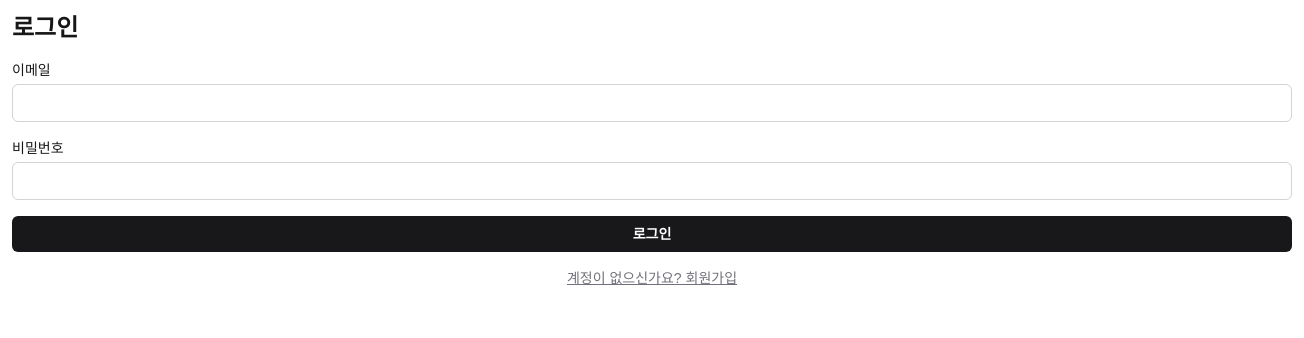
Test case: AuthForm (#35) › 회원가입 모드에서 비번 8자 미만이면 제출하지 않고 클라 가드 메시지를 보인다
The image size is (1304, 338).
Click the button "계정이 없으신가요? 회원가입". click: point(652, 278)
box: [12,268,1292,288]
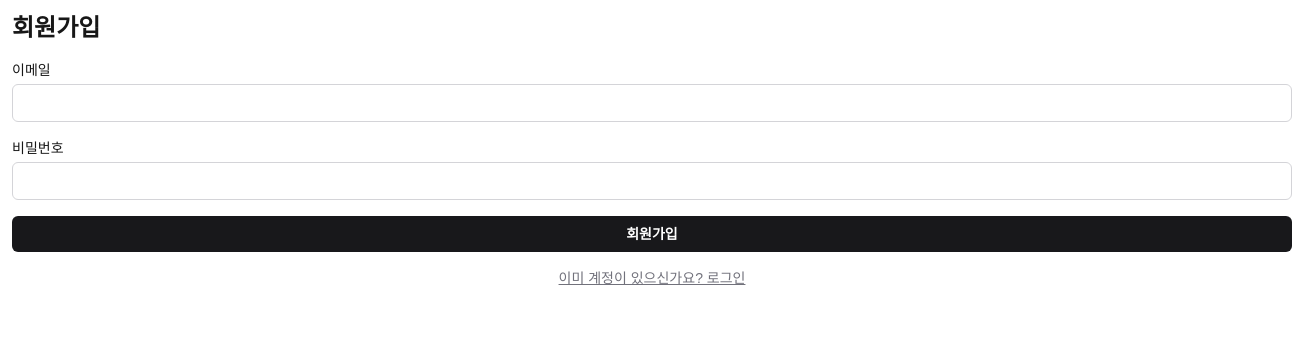
Type "a@b.com" into the field labelled "이메일". click: point(652, 103)
box: [12,84,1292,122]
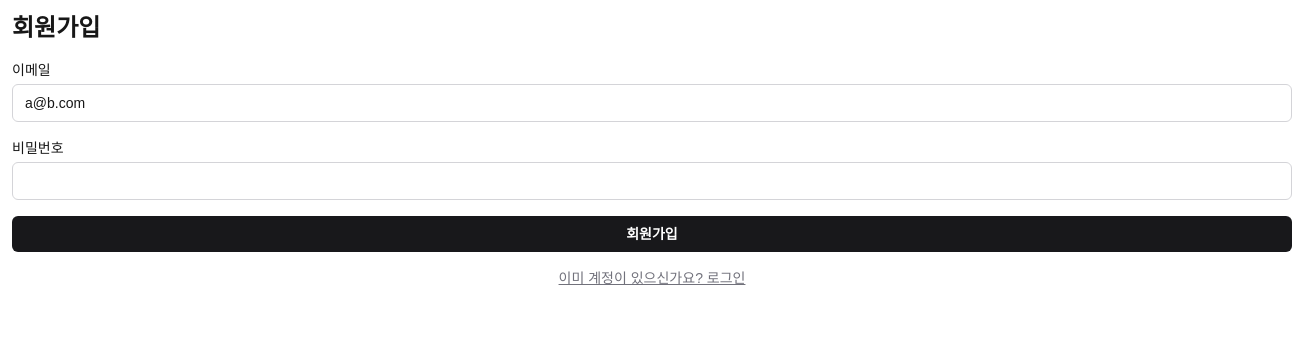
Type "short" into the password field labelled "비밀번호". click: point(652, 181)
box: [12,162,1292,200]
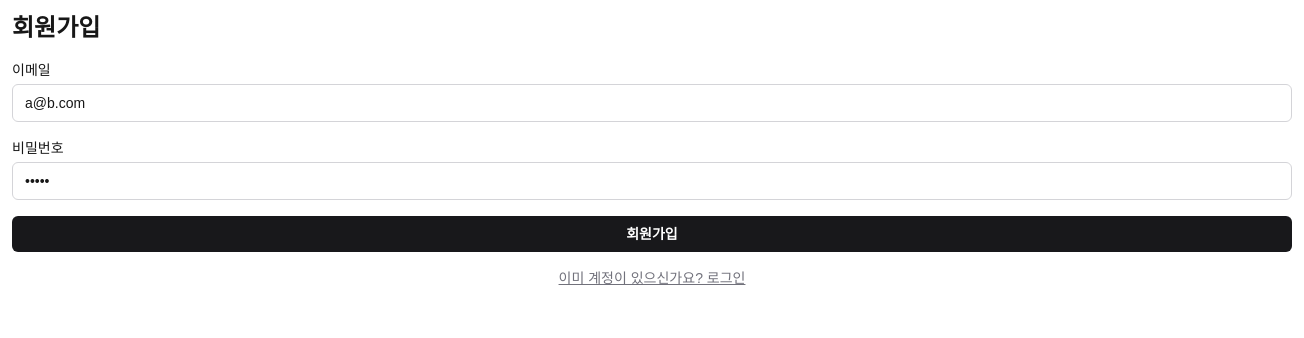
Click the button "회원가입". click: point(652, 234)
box: [12,216,1292,252]
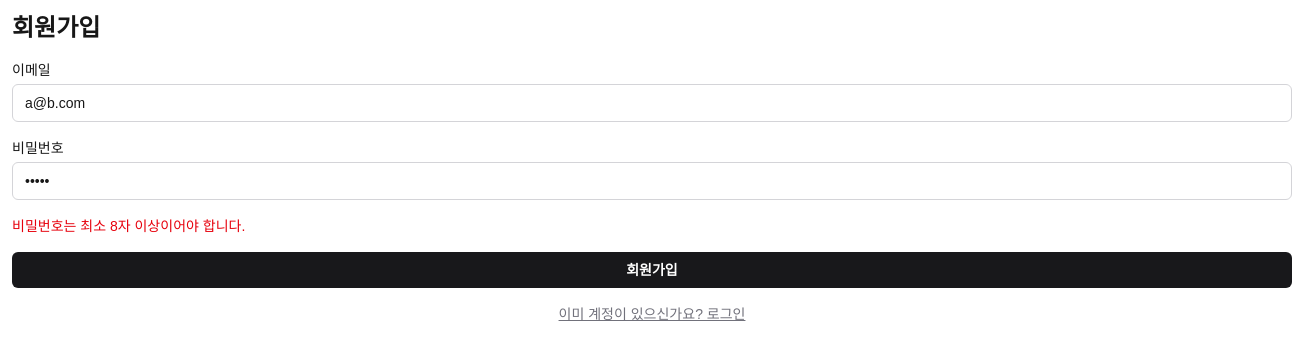
Result: the message "비밀번호는 최소 8자 이상이어야 합니다." is shown at [12,218,245,234]
